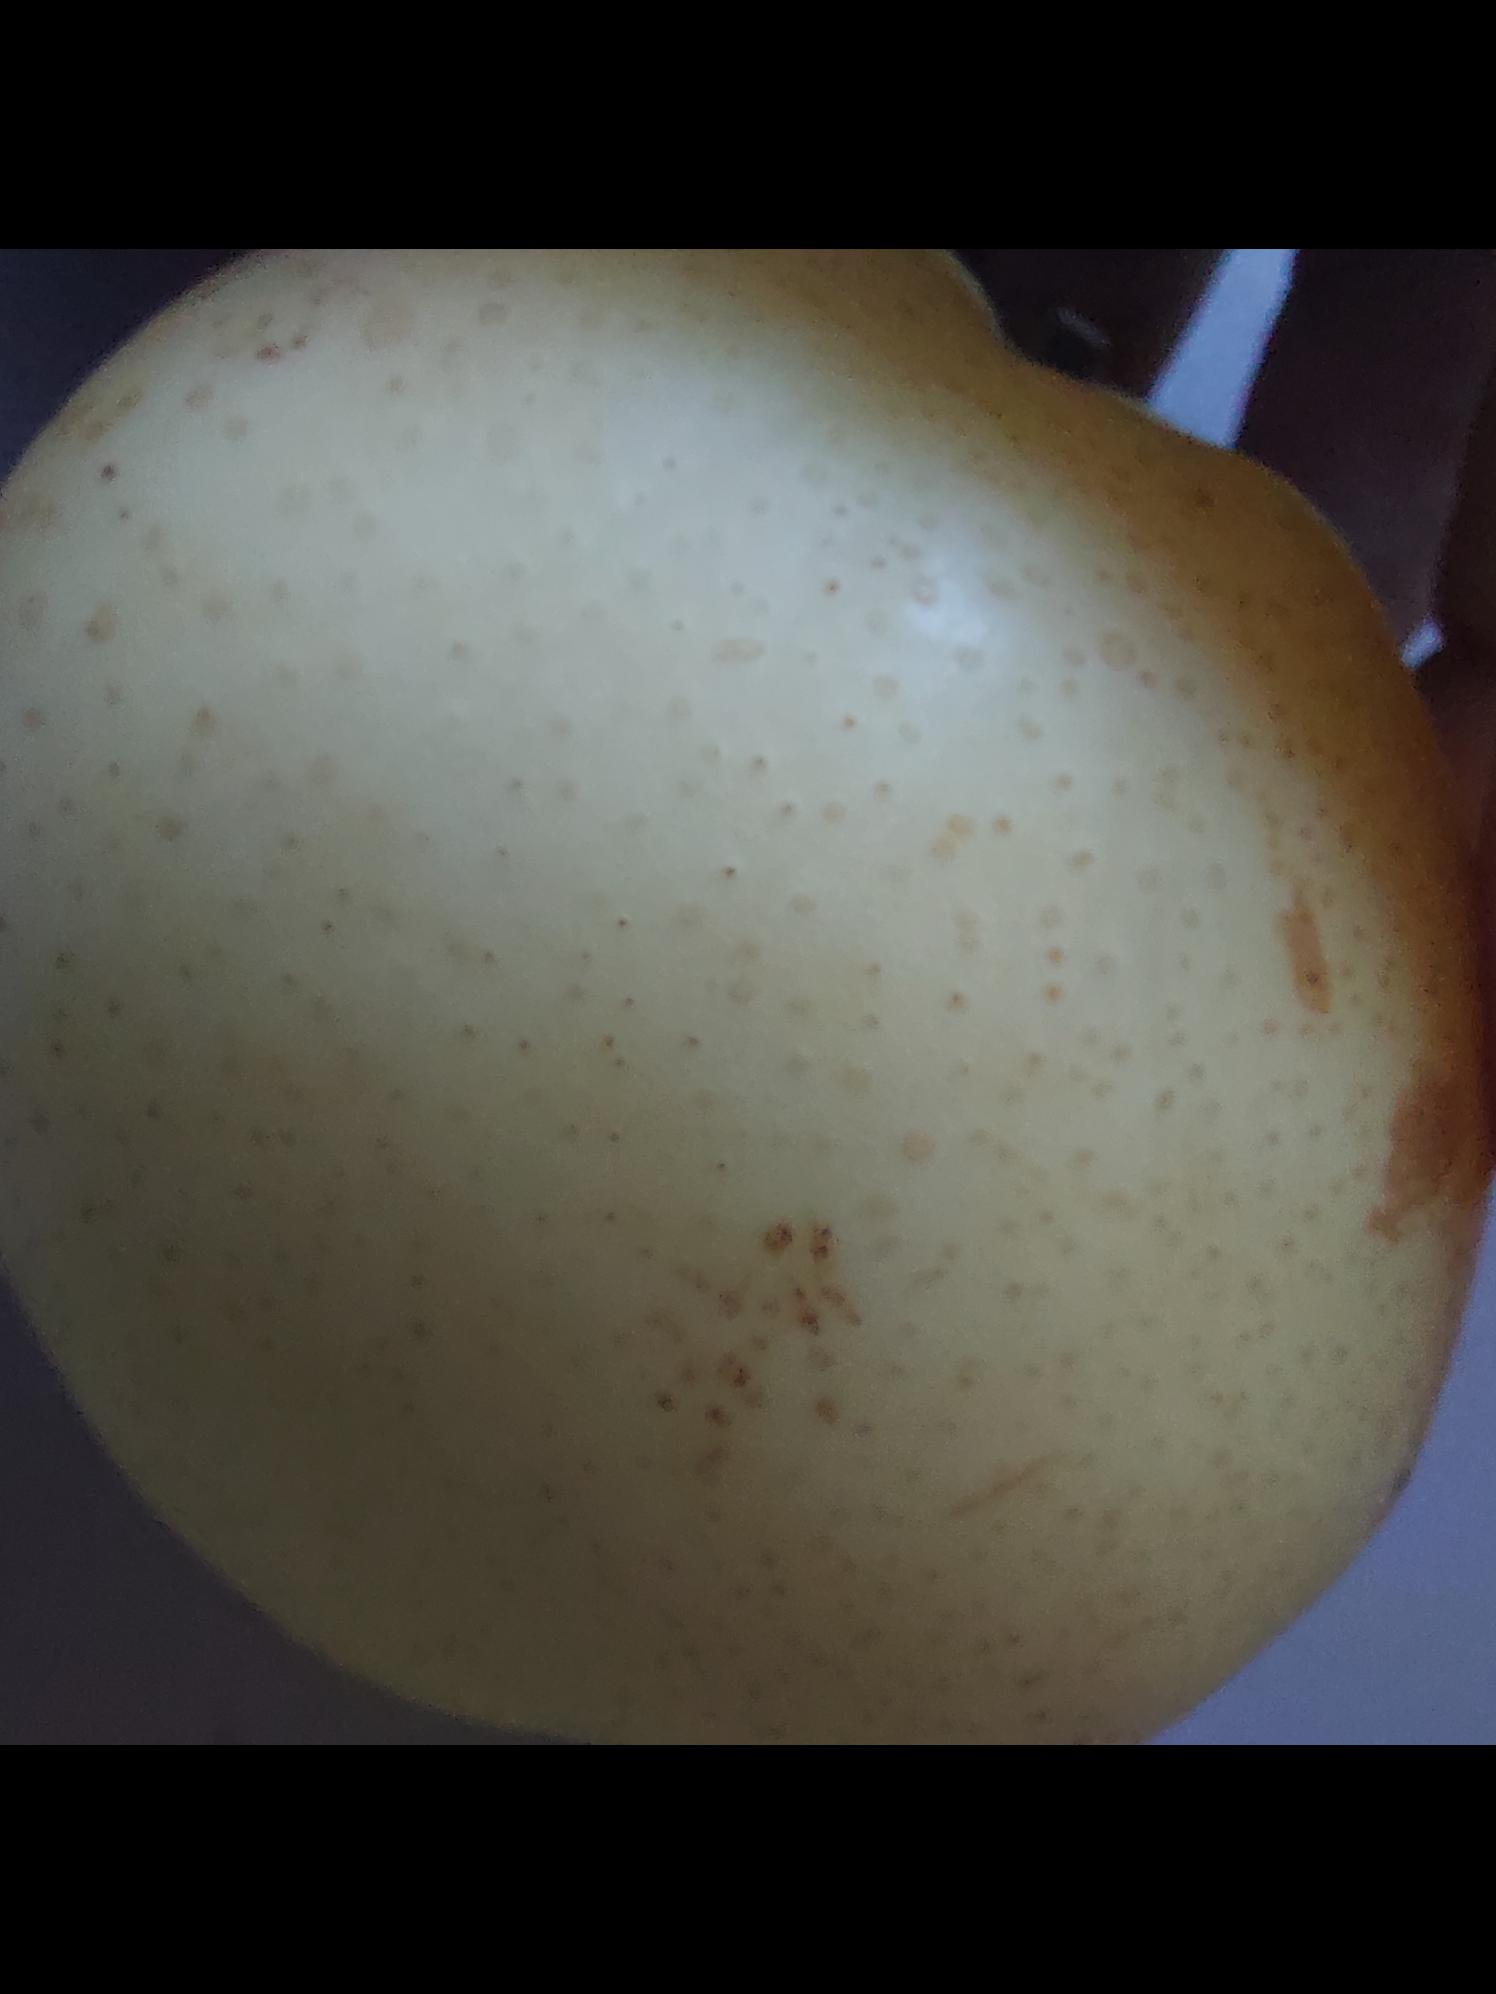Good Pear: (0, 248, 1476, 1746)
